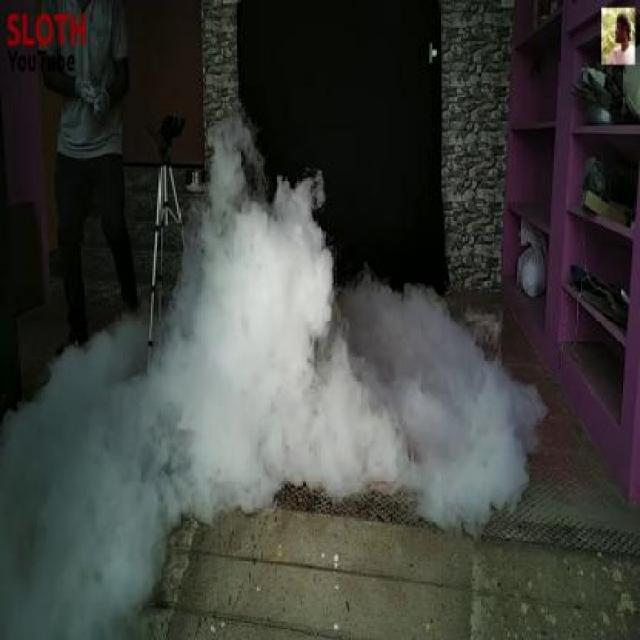smoke: (41, 160, 524, 620)
